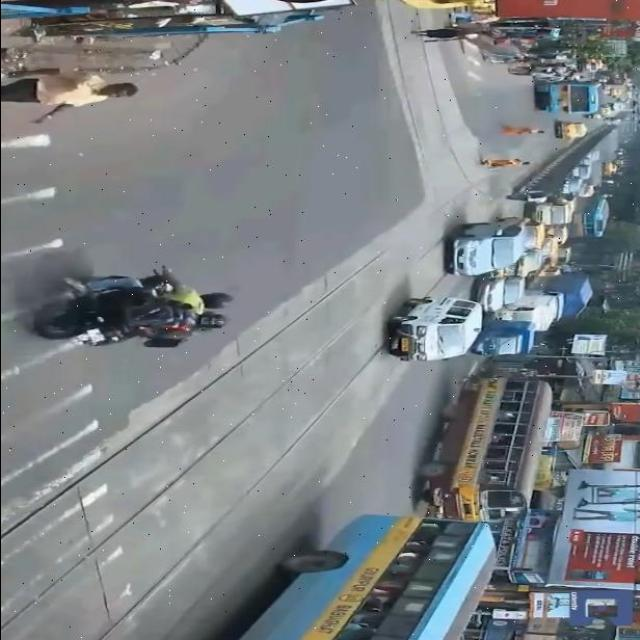accident: (34, 255, 266, 377)
